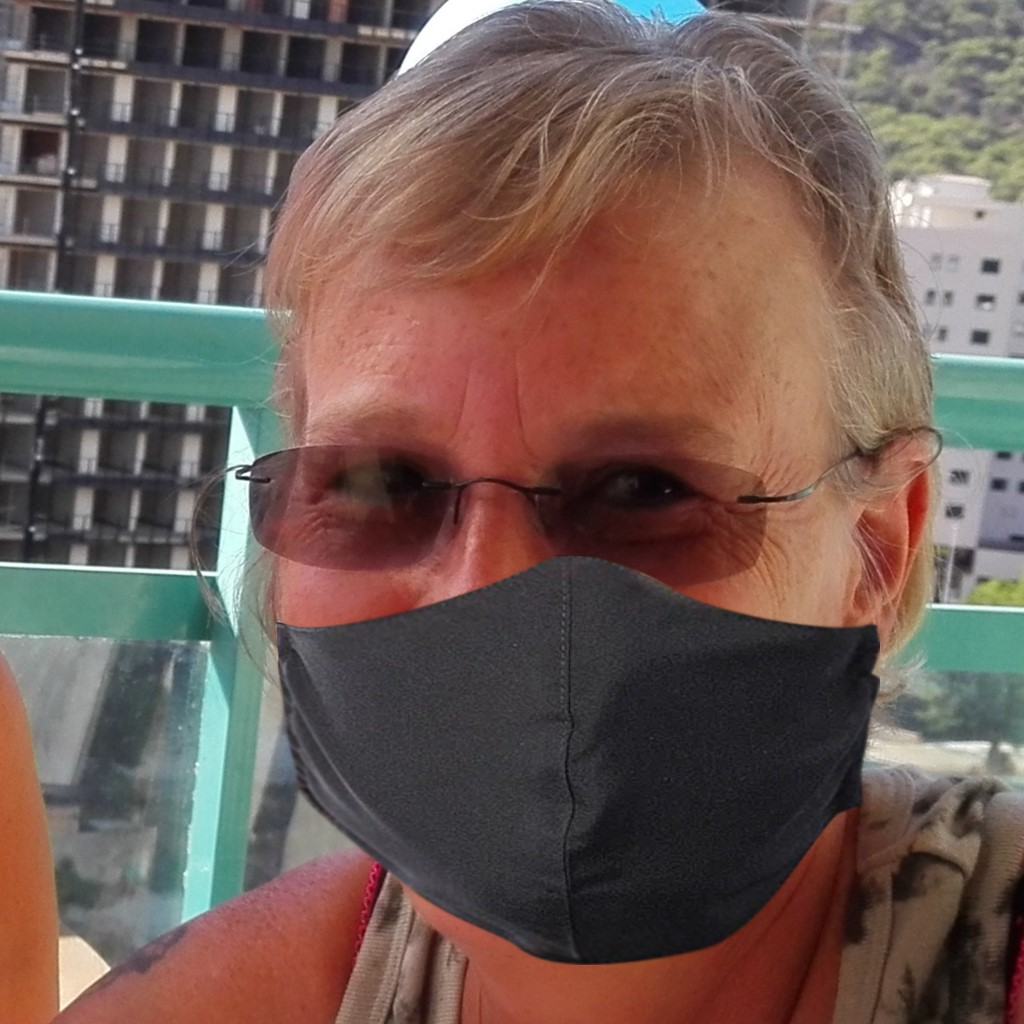con_mascara: (266, 140, 878, 950)
